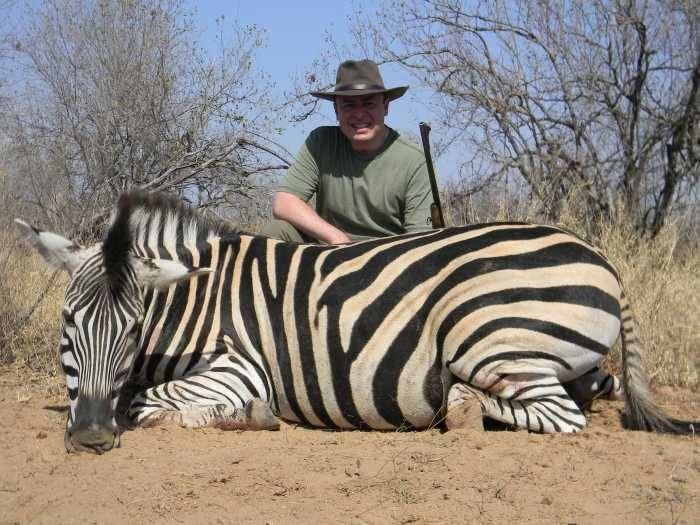zebra: (14, 188, 694, 462)
